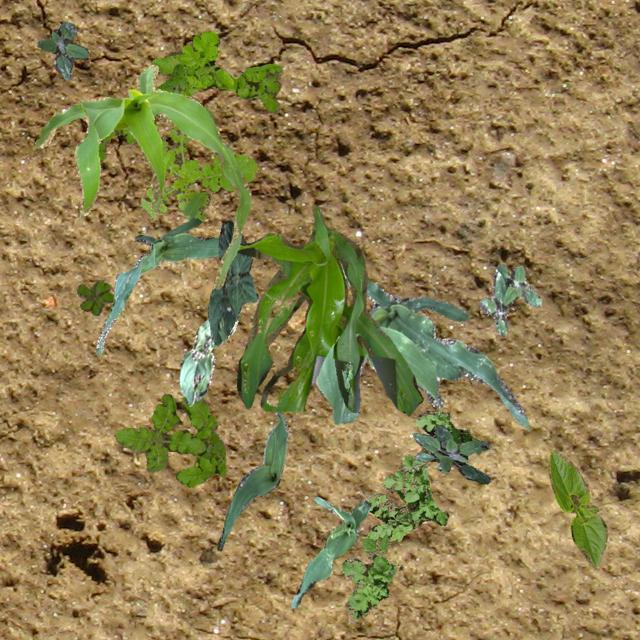crop: (34, 64, 250, 288), (236, 203, 422, 414), (314, 262, 528, 428), (94, 215, 218, 354), (215, 410, 288, 550), (290, 496, 370, 608), (548, 450, 606, 568), (206, 220, 258, 344), (178, 314, 238, 406)
weed: (341, 410, 476, 618), (138, 106, 256, 220), (152, 29, 282, 112), (113, 394, 224, 486), (96, 63, 188, 164), (412, 423, 488, 482), (478, 264, 540, 336), (36, 21, 88, 78), (76, 278, 112, 314)
